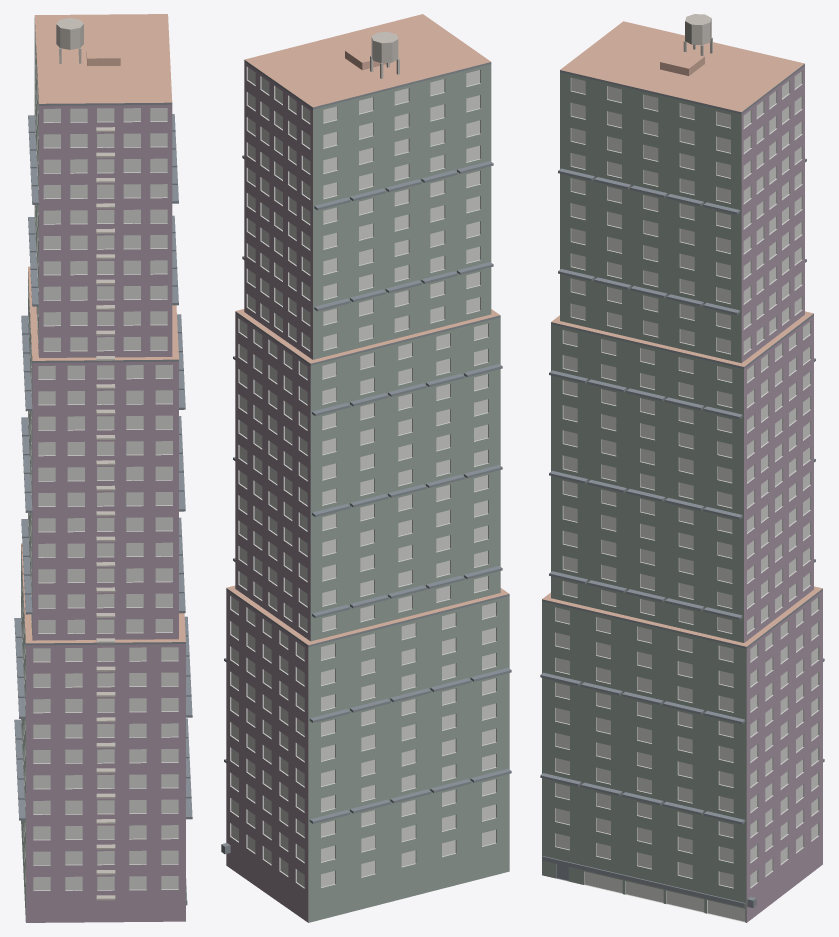
The model's file is doitt-982383__lod_0.glb.
The picture shows the model from 3 angles, left to right: view 1: azimuth 30°, elevation 25°; view 2: azimuth 150°, elevation 25°; view 3: azimuth 270°, elevation 25°; orthographic projection.
Size of the model in its own units: 34.1 by 121 by 37.16.
